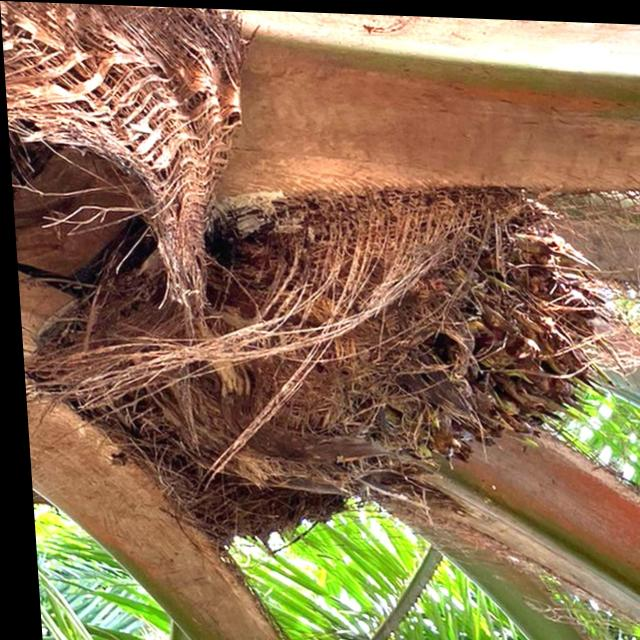unripe: (306, 207, 620, 429)
